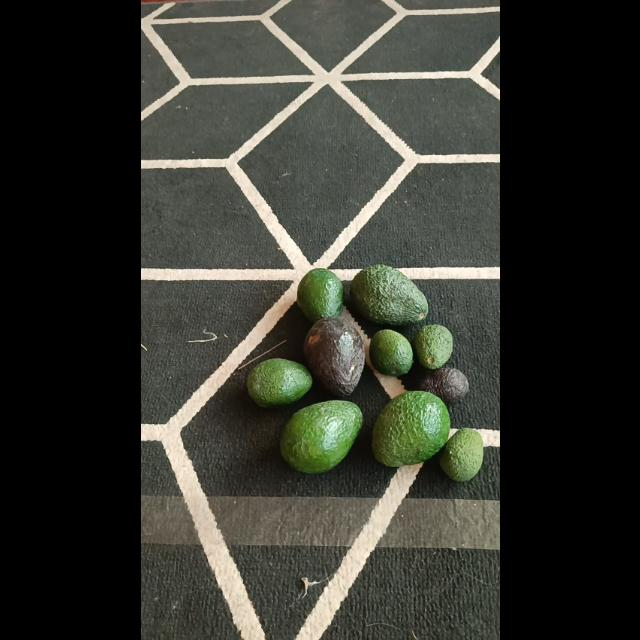Primera: (278, 400, 362, 472), (372, 390, 451, 466), (303, 316, 365, 398), (348, 264, 428, 324)
Segunda: (245, 357, 313, 407), (294, 268, 344, 322)
Tercera: (438, 426, 484, 482), (368, 328, 414, 376), (415, 366, 469, 404), (412, 322, 452, 370)
